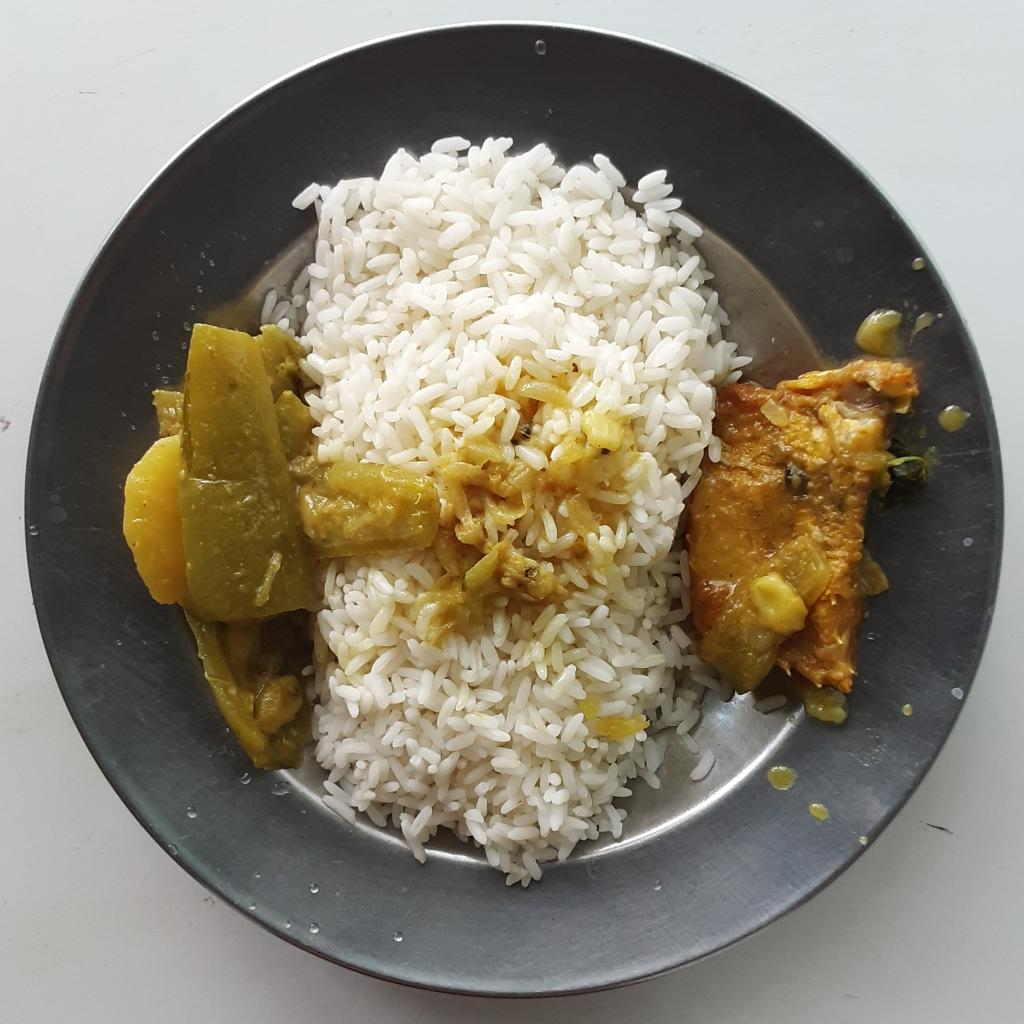dundol: (154, 319, 445, 768)
fish: (680, 356, 922, 728)
potato: (122, 439, 196, 613)
rice: (266, 135, 756, 888)
